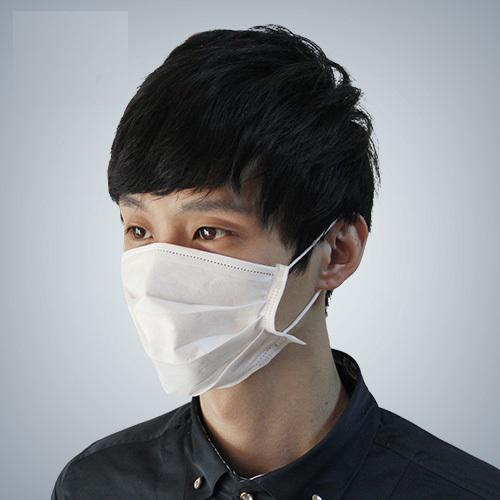OK: (119, 157, 299, 393)
